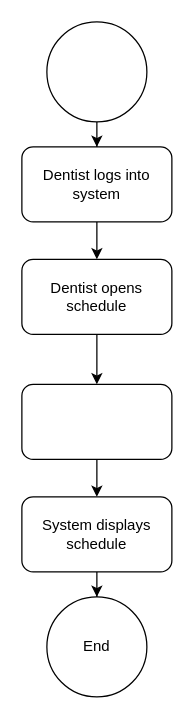
The diagram is 194 pixels wide and 719 high, and some of its shapes have lost their labels. Here are the shapes that lost their labels. From the top down, the box of each, then its label:
(46, 21, 147, 122): Start
(21, 383, 172, 459): System retrieves appointments
